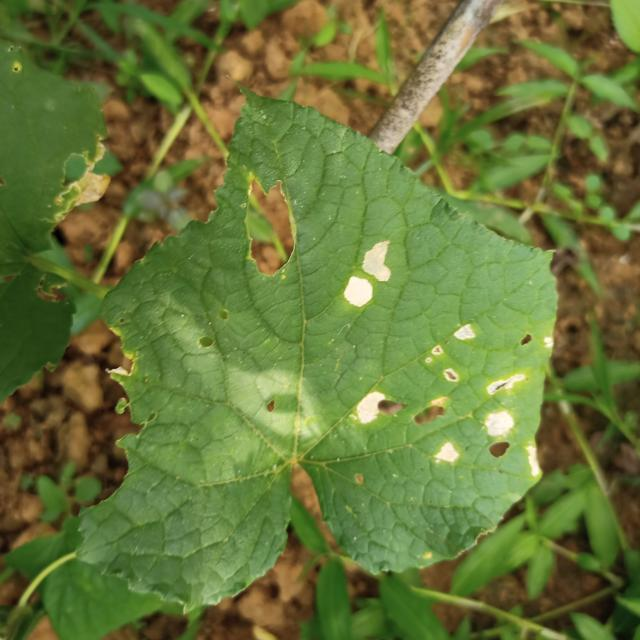disease_cucumber: (354, 324, 552, 479), (344, 239, 392, 309)
